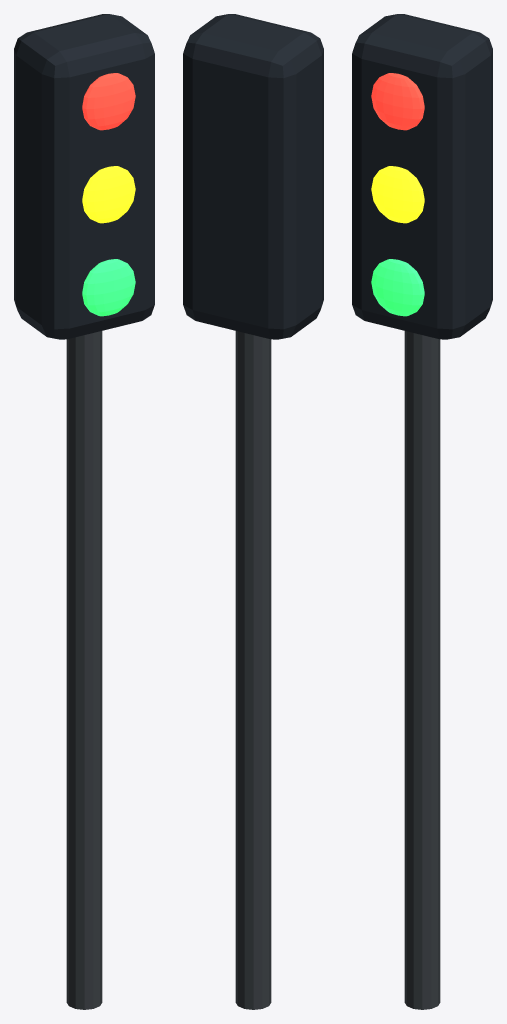
File: Traffic_Light.fbx
3 views of the same model, side by side, from view 1: azimuth 30°, elevation 25°; view 2: azimuth 150°, elevation 25°; view 3: azimuth 330°, elevation 25° (orthographic).
Parts seen in each view (by area): view 1: Traffic_Light_SignalBody, Traffic_Light_SignalPole, Traffic_Light_Sphere, Traffic_Light_Sphere.002, Traffic_Light_Sphere.001; view 2: Traffic_Light_SignalBody, Traffic_Light_SignalPole; view 3: Traffic_Light_SignalBody, Traffic_Light_SignalPole, Traffic_Light_Sphere, Traffic_Light_Sphere.002, Traffic_Light_Sphere.001.
Boxes of the visible parts, x1,y1,x2,y2 form: Traffic_Light_SignalBody: (14,14,154,339); Traffic_Light_SignalPole: (66,331,102,1009); Traffic_Light_Sphere: (82,73,135,130); Traffic_Light_Sphere.002: (82,259,135,316); Traffic_Light_Sphere.001: (82,166,135,223); Traffic_Light_SignalBody: (183,14,323,339); Traffic_Light_SignalPole: (235,331,271,1009); Traffic_Light_SignalBody: (352,14,492,339); Traffic_Light_SignalPole: (404,331,440,1009); Traffic_Light_Sphere: (371,73,424,130); Traffic_Light_Sphere.002: (371,259,424,316); Traffic_Light_Sphere.001: (371,166,424,223).
Size of the model in its own units: 0.5 by 4.17 by 0.412.
